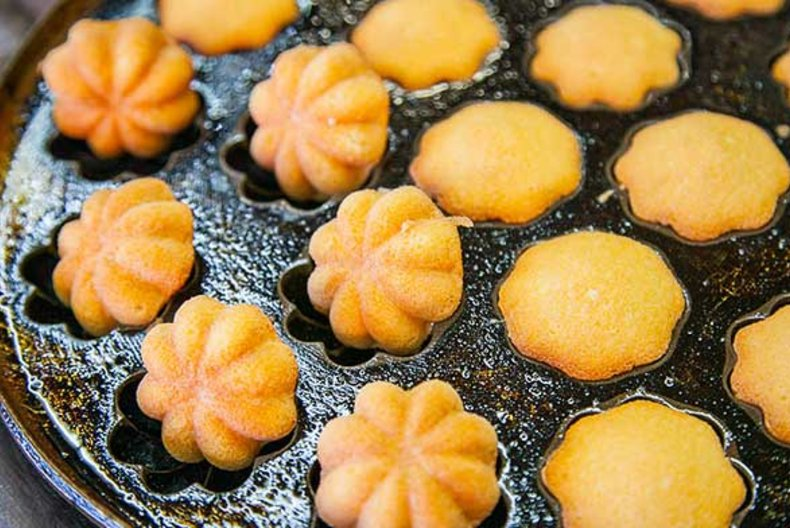kanomkai: (493, 210, 706, 389), (131, 291, 307, 488), (293, 365, 505, 528), (298, 182, 476, 370), (535, 378, 751, 528), (37, 12, 213, 188), (43, 161, 201, 349), (412, 85, 597, 240)
